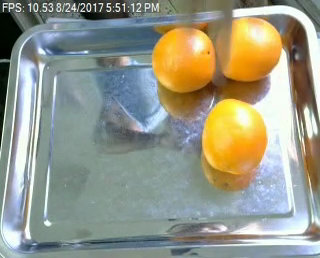Orange: (203, 99, 268, 174), (149, 24, 214, 92), (216, 15, 282, 81)
